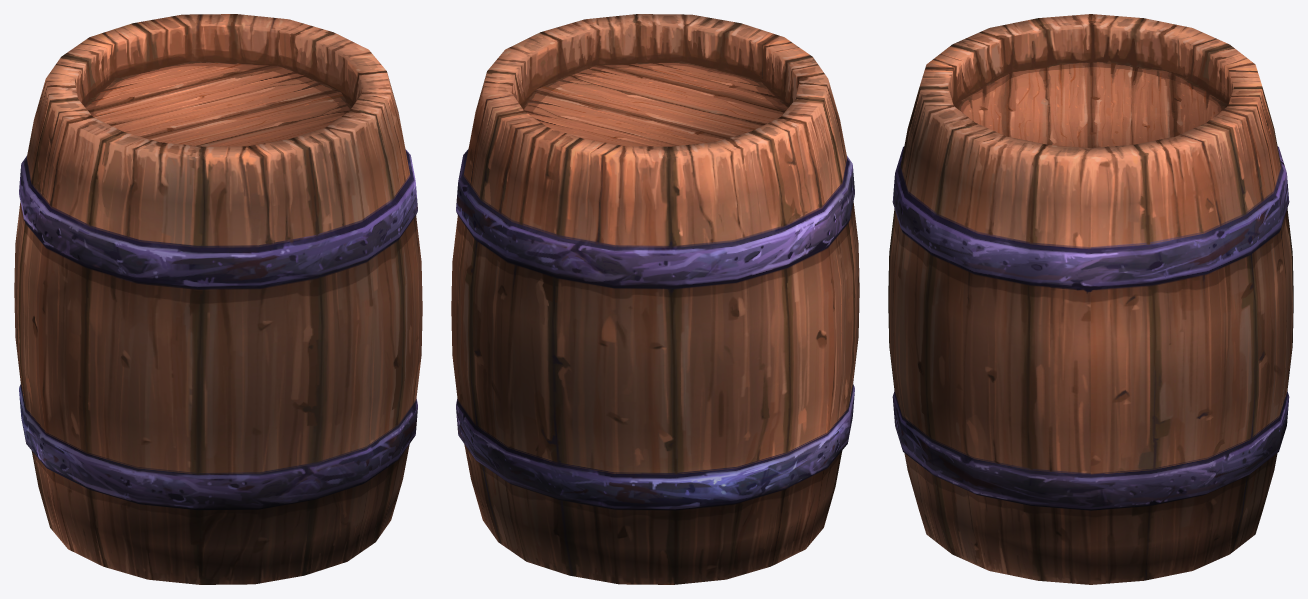
File: barrel.obj
3 views of the same model, side by side, from view 1: azimuth 30°, elevation 25°; view 2: azimuth 150°, elevation 25°; view 3: azimuth 270°, elevation 25° (orthographic).
Visible parts, largest first — view 1: polySurface721; view 2: polySurface721; view 3: polySurface721.
Part boxes in pixels (box(x1,y1,x2,y2)): polySurface721: box(14, 14, 422, 584); polySurface721: box(451, 14, 859, 584); polySurface721: box(888, 14, 1293, 584).
Size of the model in its own units: 0.976 by 1.12 by 0.9676.
Materials: 1 (1 with a texture image).
